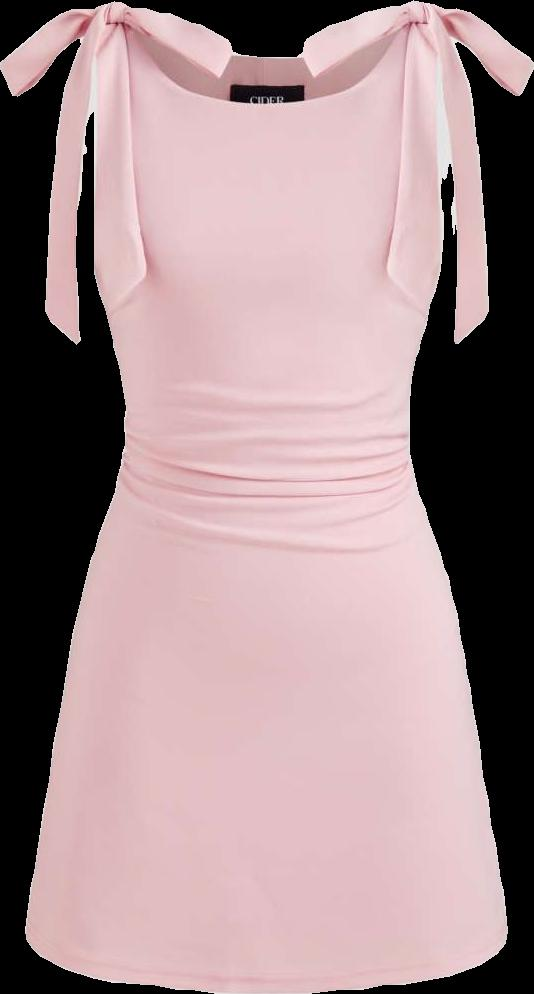Bodice: (92, 2, 443, 511)
Hemline: (22, 927, 510, 993)
Neckline: (123, 2, 416, 110)
Skirt: (25, 487, 507, 993)
